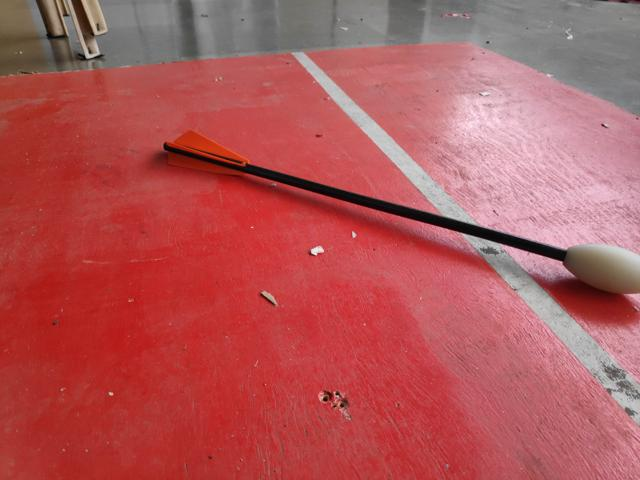Head: (562, 242, 640, 297)
